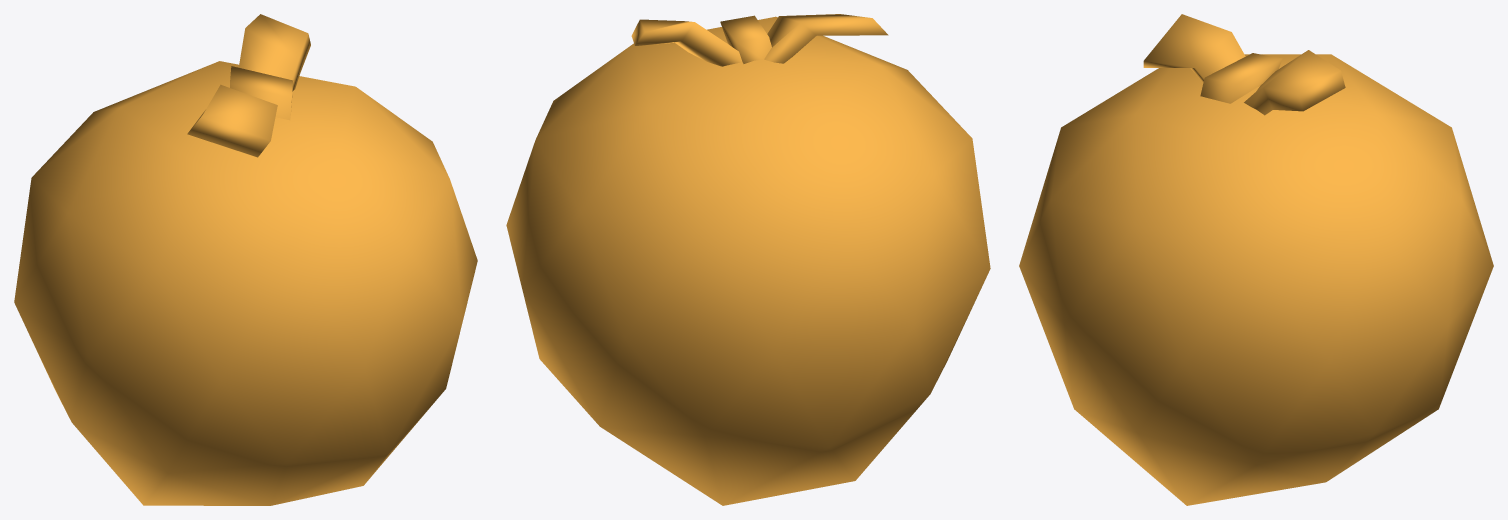
Rendered from 09_fruit_orange.glb.
3 views of the same model, side by side, from view 1: azimuth 30°, elevation 25°; view 2: azimuth 150°, elevation 25°; view 3: azimuth 270°, elevation 25° (orthographic). The views are drawn at different scales.
Visible parts, largest first — view 1: Fruit_Orange; view 2: Fruit_Orange; view 3: Fruit_Orange.
Boxes of the visible parts, x1,y1,x2,y2 form: Fruit_Orange: (14,14,477,505); Fruit_Orange: (506,14,990,505); Fruit_Orange: (1019,14,1493,505).
Size of the model in its own units: 0.1002 by 0.1048 by 0.1054.
